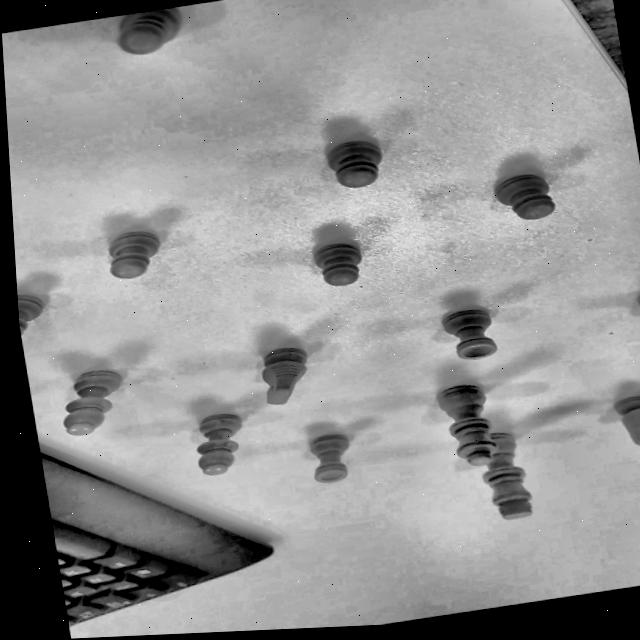white-bishop: (53, 366, 129, 438), (188, 410, 249, 477)
white-king: (475, 428, 534, 523)
white-knight: (255, 343, 315, 406), (611, 389, 640, 450)
white-pawn: (98, 4, 189, 62), (490, 169, 557, 225), (100, 225, 165, 282), (323, 135, 387, 192), (311, 240, 365, 290)
white-queen: (426, 381, 507, 476)
white-rook: (439, 305, 499, 364), (304, 430, 354, 484)
